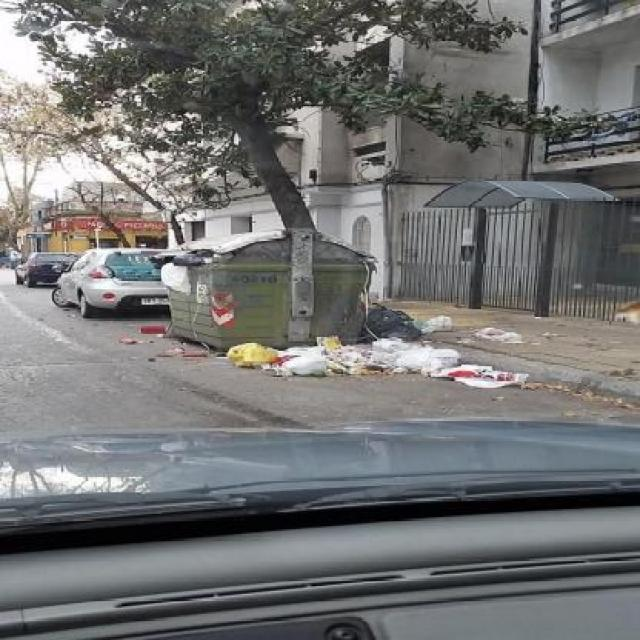garbage: (223, 329, 547, 401)
